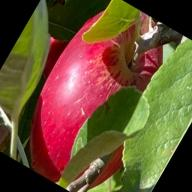Apples: (4, 0, 192, 192), (30, 31, 70, 79)
